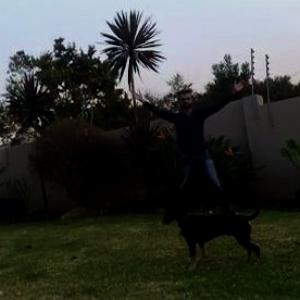takeoff: (118, 78, 236, 213)
